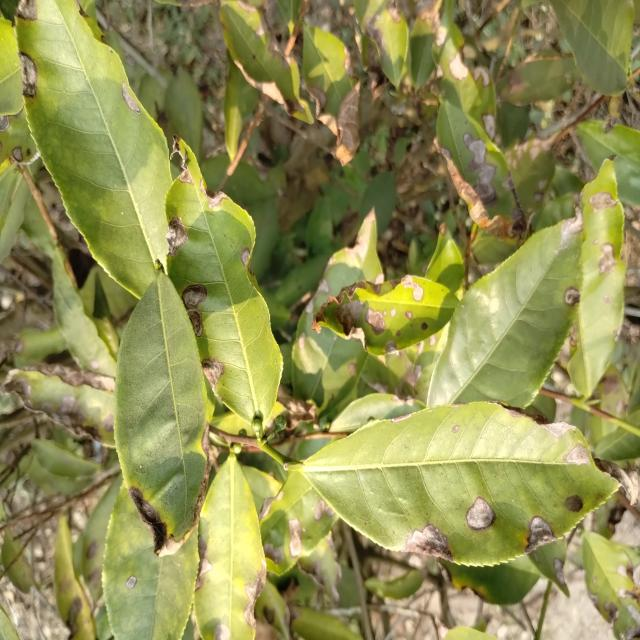Leaf: (300, 402, 623, 566), (16, 0, 171, 296), (165, 141, 283, 423), (426, 214, 582, 408), (114, 270, 208, 555), (291, 216, 384, 415), (102, 485, 199, 640), (568, 159, 625, 398), (194, 453, 266, 640), (436, 100, 527, 239), (313, 276, 457, 355), (221, 0, 313, 123), (5, 362, 115, 447), (432, 0, 496, 139), (52, 247, 116, 377), (550, 0, 635, 95), (260, 471, 338, 574), (303, 25, 360, 165), (582, 532, 640, 640), (578, 120, 640, 205), (54, 516, 96, 640), (442, 555, 540, 604), (506, 138, 555, 235), (354, 0, 408, 88), (498, 56, 580, 106), (224, 56, 258, 167), (329, 393, 425, 432), (165, 67, 203, 160), (408, 0, 442, 89), (300, 533, 341, 603), (274, 254, 329, 306), (31, 439, 100, 478), (425, 223, 464, 291), (529, 538, 569, 597), (291, 607, 362, 640), (0, 15, 23, 116), (359, 172, 396, 231), (1, 528, 34, 594), (256, 579, 290, 640), (364, 569, 423, 599), (472, 234, 526, 263)
